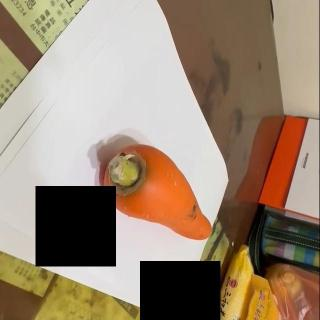carrot: (102, 143, 214, 241)
